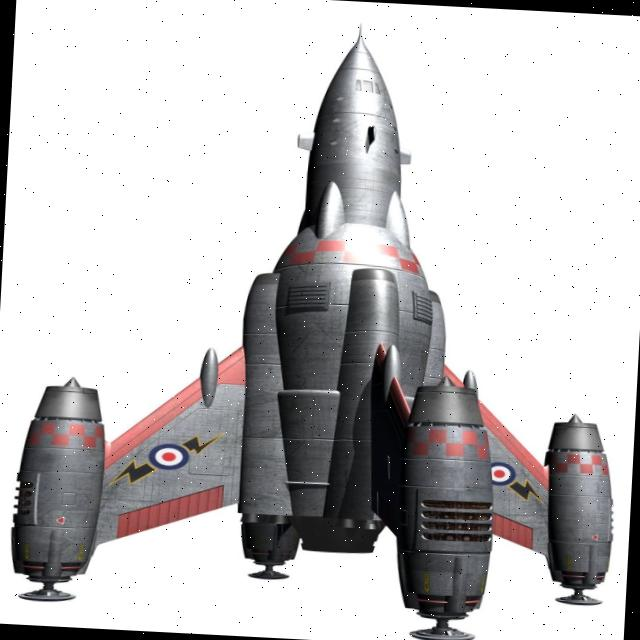rocket: (11, 17, 639, 640)
